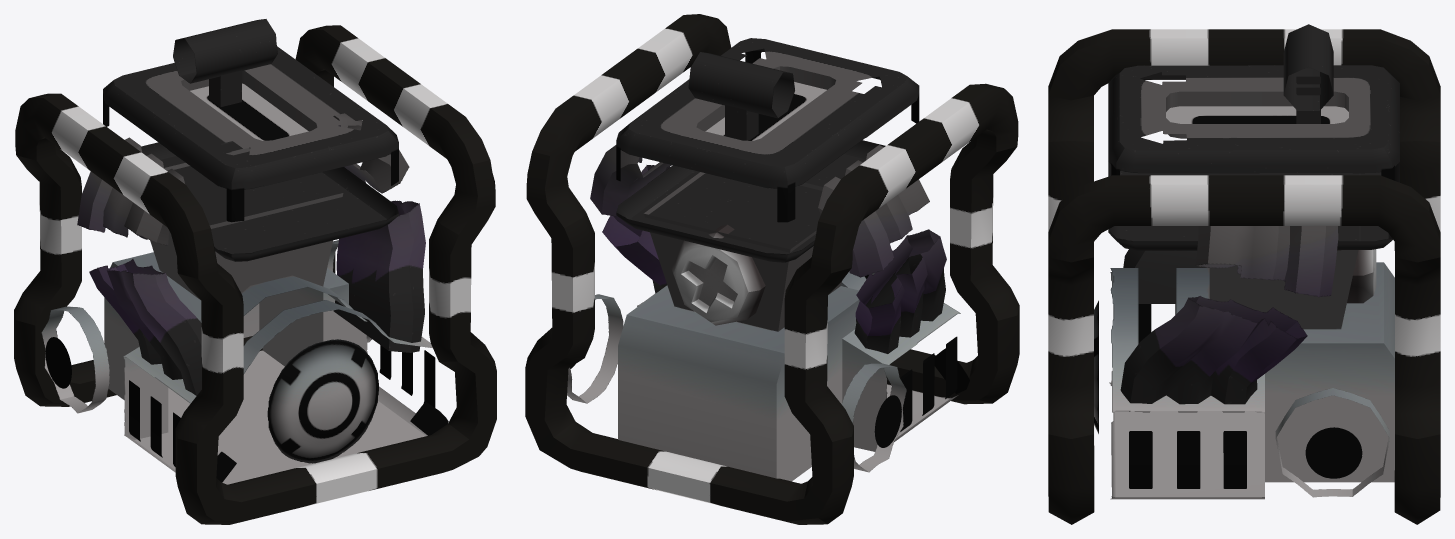
File: obj_interactive_gasengine_03_off.fbx
3 views of the same model, side by side, from view 1: azimuth 30°, elevation 25°; view 2: azimuth 150°, elevation 25°; view 3: azimuth 270°, elevation 25° (orthographic). The views are drawn at different scales.
Visible parts, largest first — view 1: obj_interactive_gasengine_03_off; view 2: obj_interactive_gasengine_03_off; view 3: obj_interactive_gasengine_03_off.
Boxes of the visible parts, x1,y1,x2,y2 form: obj_interactive_gasengine_03_off: (14, 19, 496, 524); obj_interactive_gasengine_03_off: (525, 14, 1019, 524); obj_interactive_gasengine_03_off: (1048, 24, 1440, 524).
Size of the model in its own units: 2.04 by 2.4 by 2.04.
